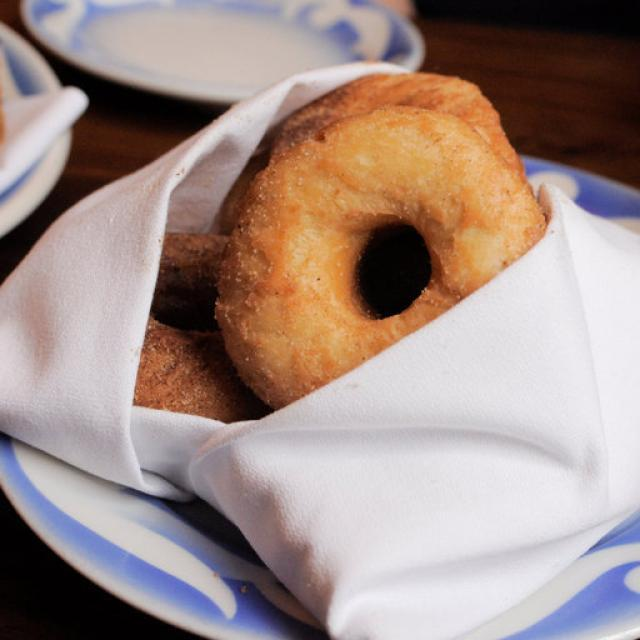Donuts: (104, 63, 572, 535)
